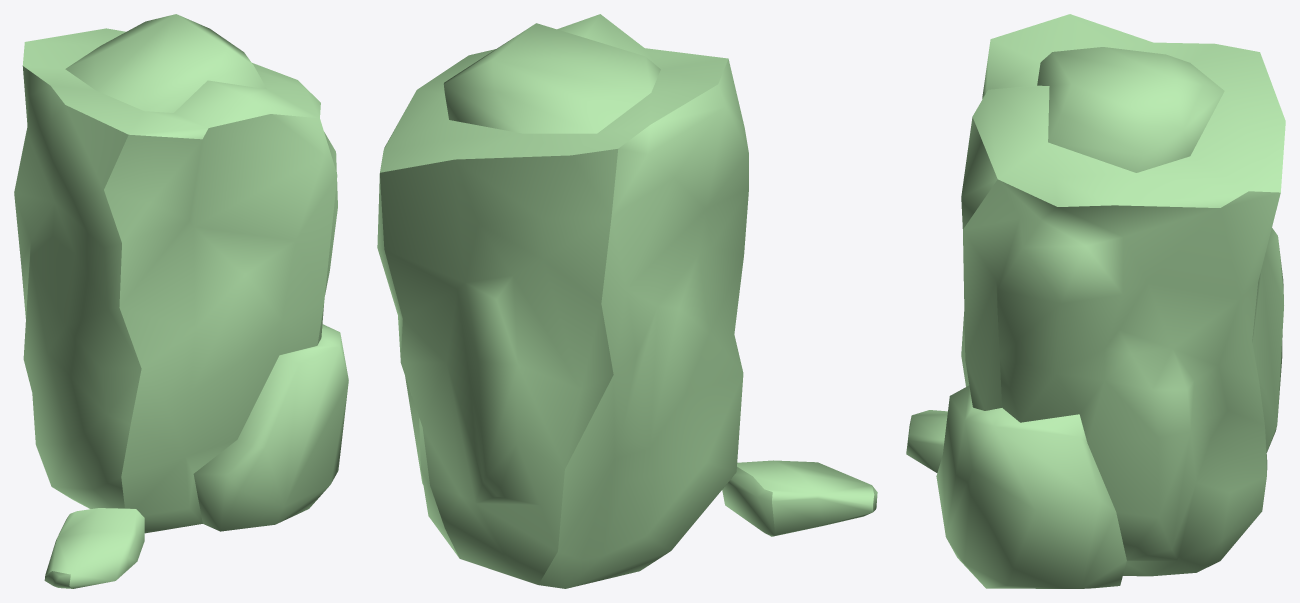
Rendered from rock_1.fbx.
3 views of the same model, side by side, from view 1: azimuth 30°, elevation 25°; view 2: azimuth 150°, elevation 25°; view 3: azimuth 270°, elevation 25° (orthographic). The views are drawn at different scales.
Visible parts, largest first — view 1: rock_1; view 2: rock_1; view 3: rock_1.
Boxes of the visible parts, x1=… form: rock_1: x1=14, y1=14, x2=348, y2=588; rock_1: x1=377, y1=14, x2=877, y2=588; rock_1: x1=906, y1=14, x2=1285, y2=588.
Bounding box in the file's own units: 208 × 263 × 184.
